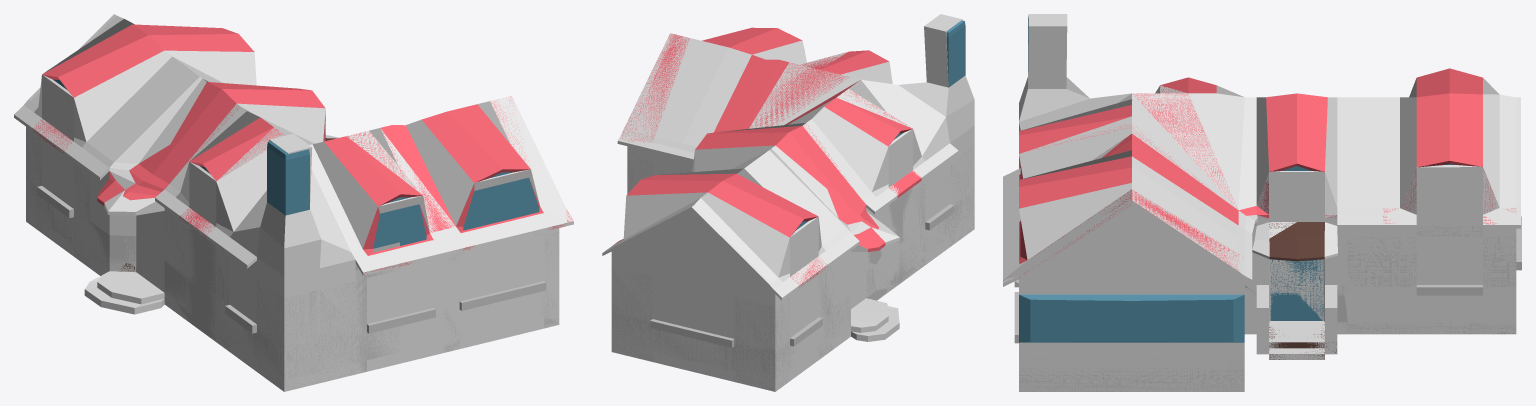
Rendered from M_House3.fbx.
3 views of the same model, side by side, from view 1: azimuth 30°, elevation 25°; view 2: azimuth 150°, elevation 25°; view 3: azimuth 270°, elevation 25° (orthographic). The views are drawn at different scales.
Parts seen in each view (by area): view 1: M_House3, M_House3.001; view 2: M_House3, M_House3.001; view 3: M_House3, M_House3.001.
Part boxes in pixels (x1=…): M_House3: x1=14, y1=14, x2=573, y2=391; M_House3.001: x1=26, y1=24, x2=572, y2=391; M_House3: x1=602, y1=14, x2=974, y2=391; M_House3.001: x1=611, y1=20, x2=974, y2=391; M_House3: x1=1003, y1=14, x2=1520, y2=391; M_House3.001: x1=1003, y1=15, x2=1521, y2=391.
Size of the model in its own units: 847 by 571 by 1101.
